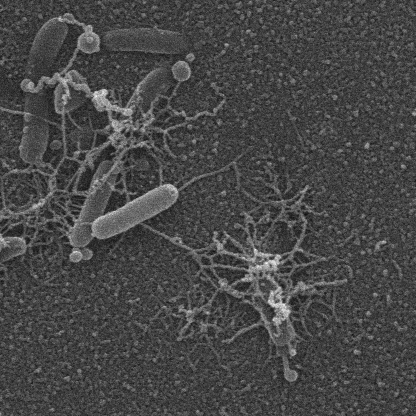cell2cell: (32, 74, 134, 118), (0, 54, 29, 121)
cell2surface: (145, 226, 288, 314), (179, 146, 259, 189)
filament: (18, 17, 70, 167)
regular: (93, 185, 181, 237), (66, 162, 118, 248), (120, 67, 170, 132), (104, 28, 190, 54)
